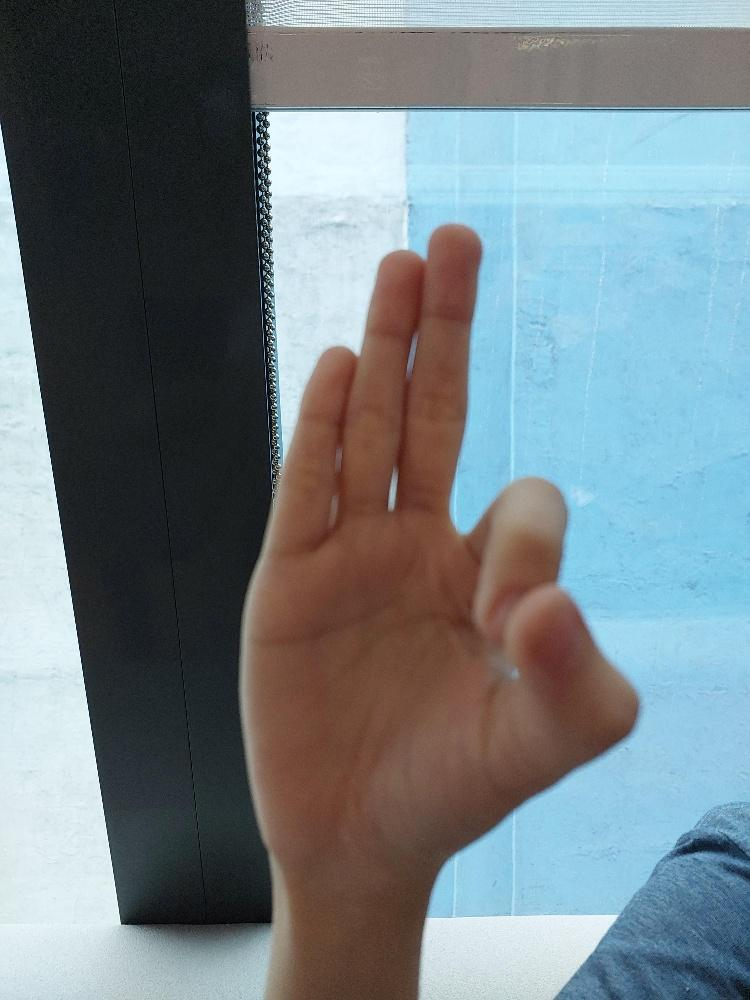f: (236, 218, 641, 876)
